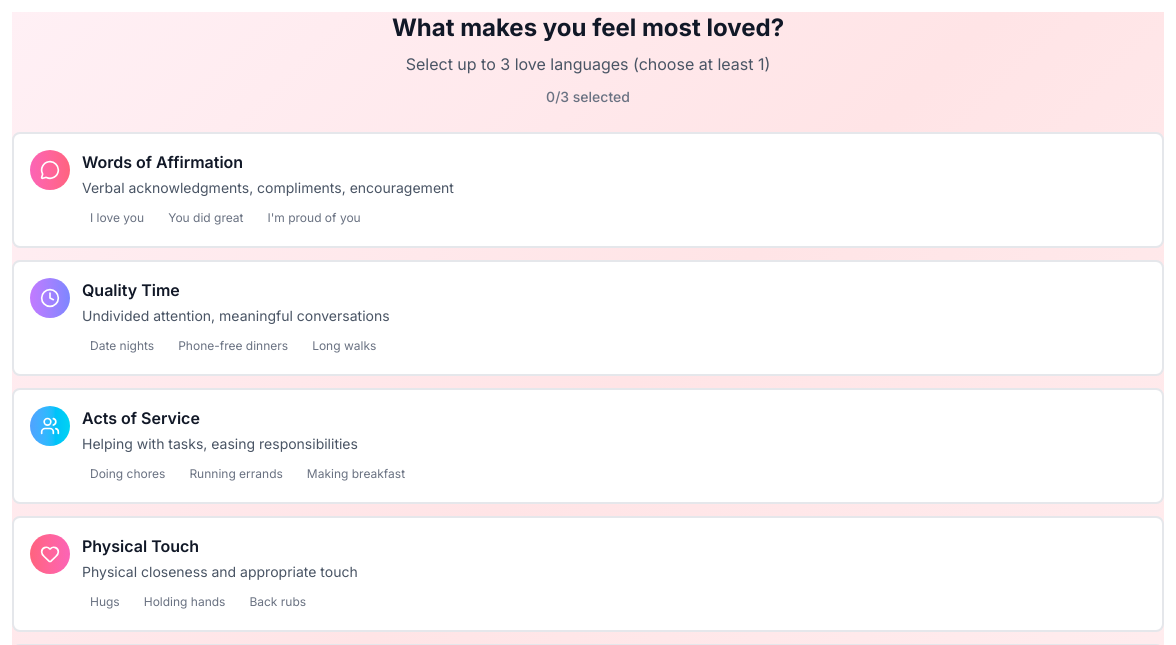
Scenario: LoveLanguagesStep › allows deselecting languages
# Select and then deselect
Step 1. Click the heading "Words of Affirmation" → {"x": 163, "y": 162}, box [82,150,243,174]
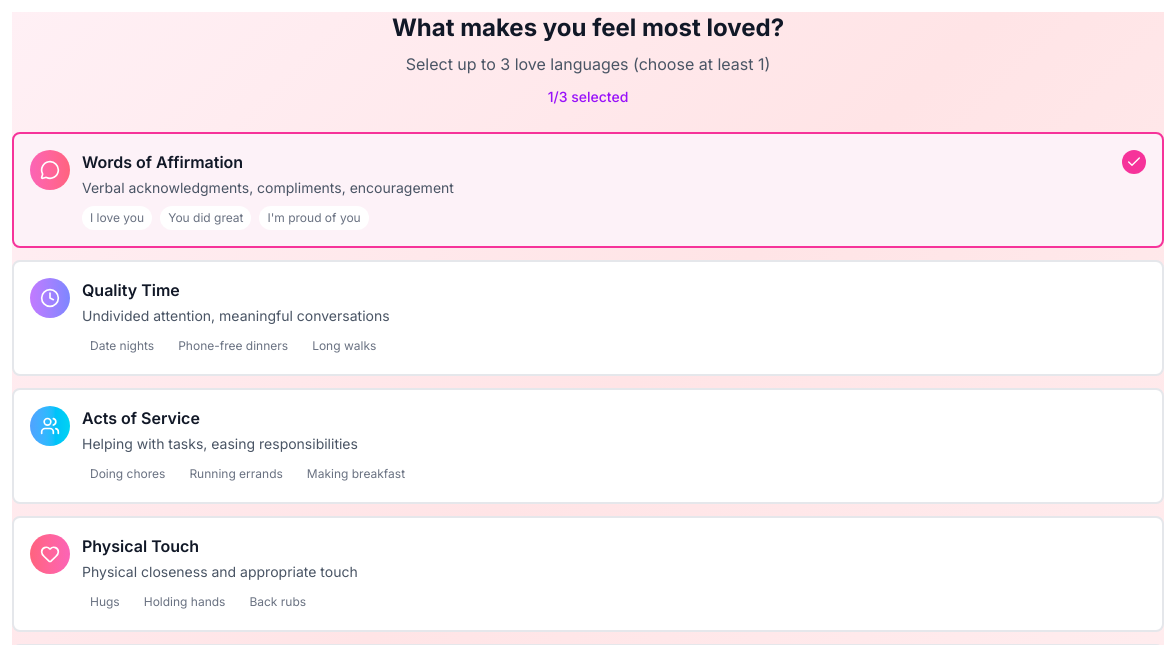
Check: the text "1/3 selected" is shown, box [548,88,628,105]
Step 2. Click the heading "Words of Affirmation" → {"x": 163, "y": 162}, box [82,150,243,174]
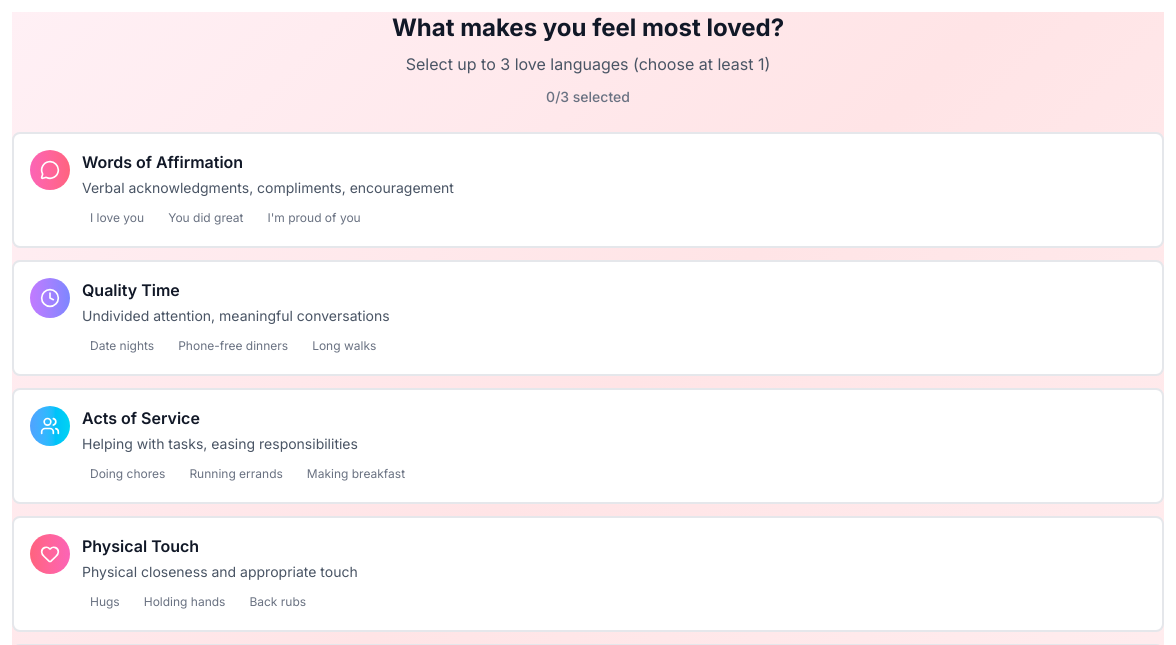
Check: the text "0/3 selected" is shown, box [546,88,630,105]
